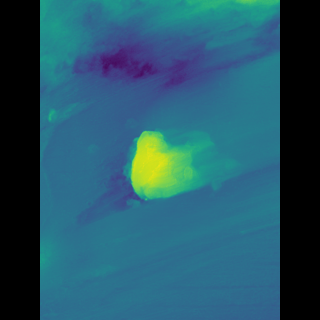Loch: (94, 124, 217, 226)
